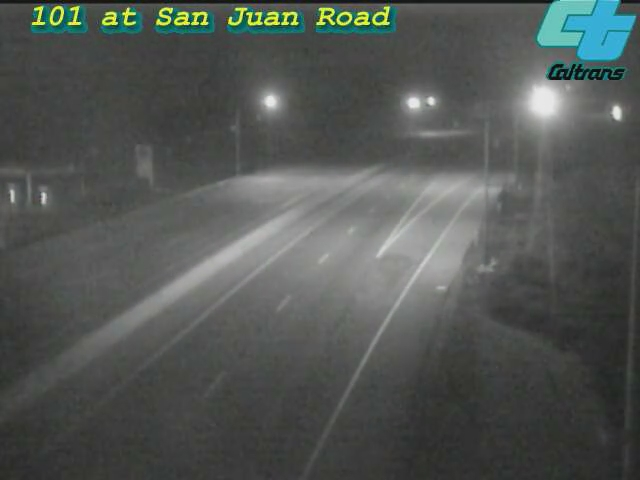vehicle: (518, 80, 568, 130), (592, 87, 640, 137)
